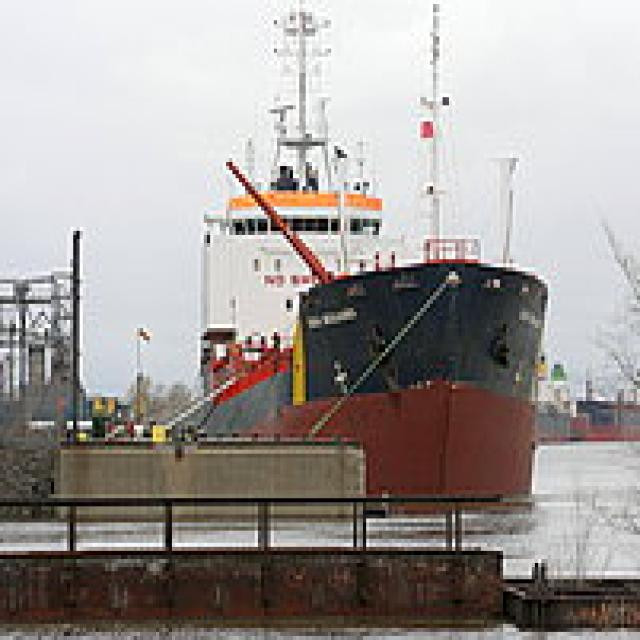Tanker: (191, 0, 551, 498)
